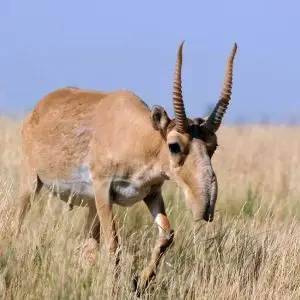saiga: (17, 40, 236, 299)
